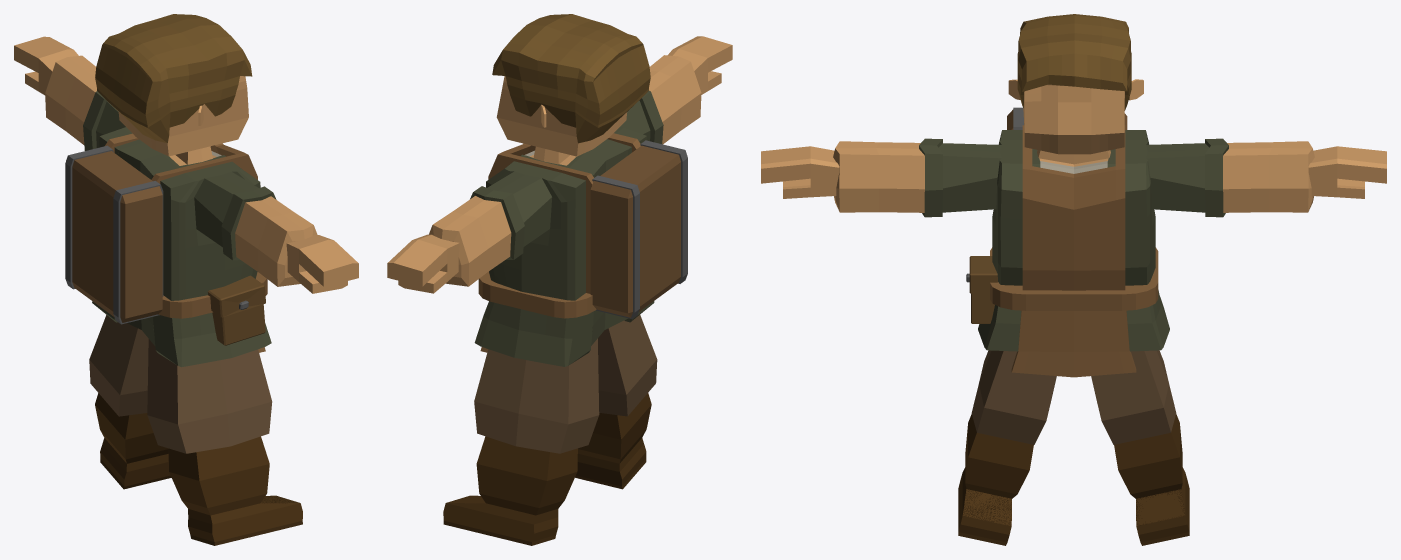
Rendered from warehouseworker.fbx.
3 views of the same model, side by side, from view 1: azimuth 30°, elevation 25°; view 2: azimuth 150°, elevation 25°; view 3: azimuth 270°, elevation 25° (orthographic).
Parts seen in each view (by area): view 1: Cube.008, Cube.001, Cube.005, Cube.009, Cube.007, Cube, Cube.002, Cube.003; view 2: Cube.008, Cube.001, Cube.005, Cube.009, Cube.007, Cube.003, Cube.002; view 3: Cube.001, Cube.008, Cube.002, Cube.005, Cube.007, Cube.003, Cube.
Part boxes in pixels (x1=…): Cube.008: x1=89, y1=315, x2=302, y2=545; Cube.001: x1=45, y1=55, x2=317, y2=367; Cube.005: x1=95, y1=14, x2=252, y2=156; Cube.009: x1=65, y1=145, x2=163, y2=324; Cube.007: x1=14, y1=36, x2=358, y2=293; Cube: x1=208, y1=275, x2=265, y2=345; Cube.002: x1=105, y1=133, x2=265, y2=352; Cube.003: x1=158, y1=272, x2=267, y2=318; Cube.008: x1=443, y1=315, x2=657, y2=545; Cube.001: x1=429, y1=55, x2=701, y2=366; Cube.005: x1=492, y1=14, x2=650, y2=156; Cube.009: x1=590, y1=140, x2=687, y2=319; Cube.007: x1=387, y1=36, x2=732, y2=293; Cube.003: x1=478, y1=271, x2=596, y2=318; Cube.002: x1=480, y1=133, x2=640, y2=352; Cube.001: x1=833, y1=130, x2=1314, y2=351; Cube.008: x1=958, y1=350, x2=1189, y2=545; Cube.002: x1=1011, y1=125, x2=1136, y2=377; Cube.005: x1=1017, y1=14, x2=1131, y2=154; Cube.007: x1=761, y1=146, x2=1386, y2=198; Cube.003: x1=990, y1=247, x2=1158, y2=310; Cube: x1=966, y1=256, x2=997, y2=323.
Bounding box in the file's own units: 61.15 × 176 × 207.
